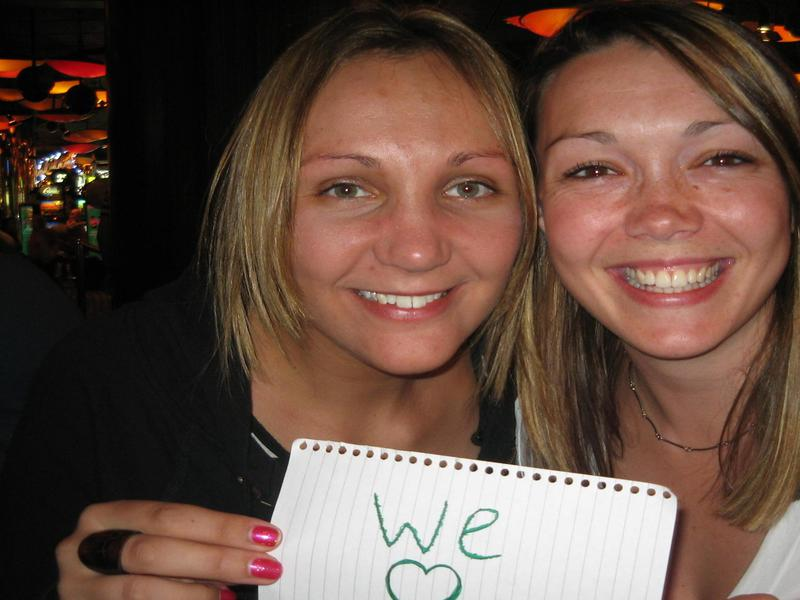person: (15, 9, 603, 597), (521, 1, 800, 590)
